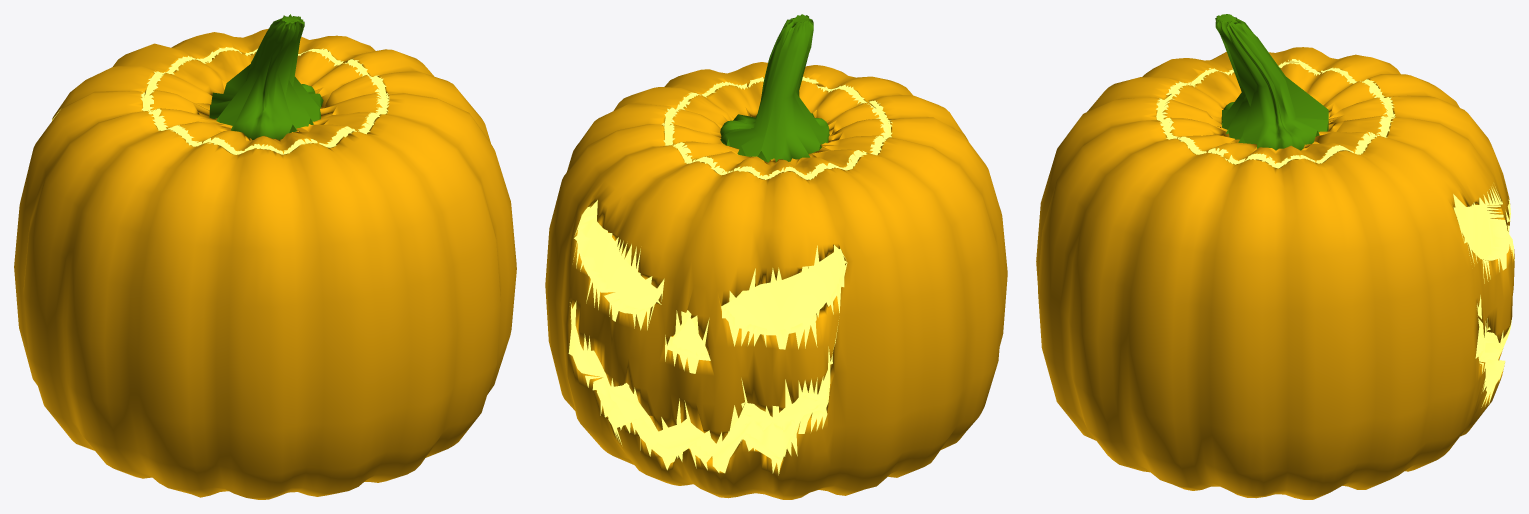
File: Bad Jack02.fbx
The picture shows the model from 3 angles, left to right: view 1: azimuth 30°, elevation 25°; view 2: azimuth 150°, elevation 25°; view 3: azimuth 270°, elevation 25°; orthographic projection. The views are drawn at different scales.
Visible parts, largest first — view 1: Connect, Top; view 2: Connect, Top; view 3: Connect, Top.
Boxes of the visible parts, box(x1,y1,x2,y2) form: Connect: box(14, 28, 516, 499); Top: box(143, 14, 386, 154); Connect: box(545, 62, 1007, 499); Top: box(664, 14, 889, 179); Connect: box(1036, 47, 1514, 499); Top: box(1159, 14, 1390, 168).
Bounding box in the file's own units: 390 × 376 × 391.
